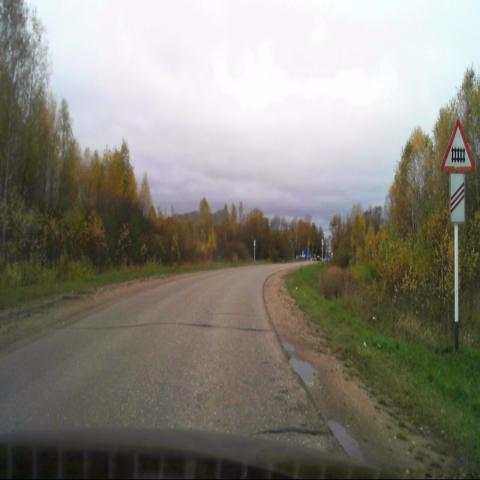1_1: (440, 117, 477, 173)
